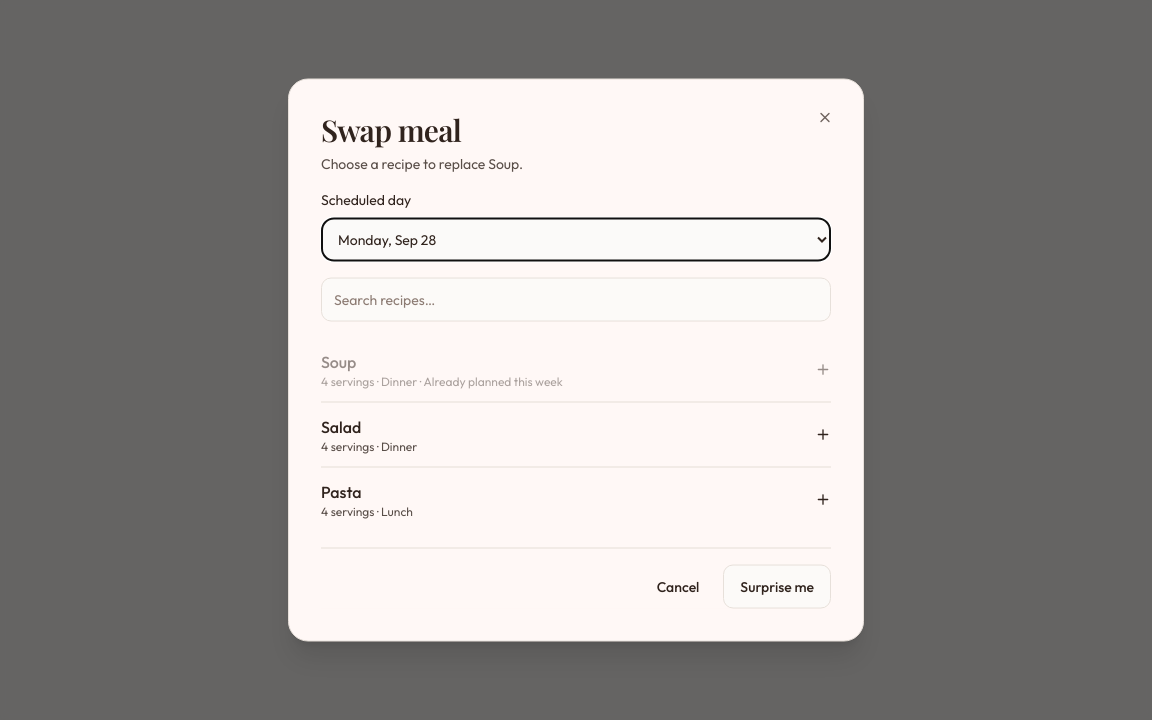
Scenario: Swap meal dialog › keeps the selection open and shows a failed save inline
What coordinates should you click on to do the following:
click the button with aria-label "Swap with Salad"
I would click on:
 (341, 426)
Its box is [321,402,831,466].
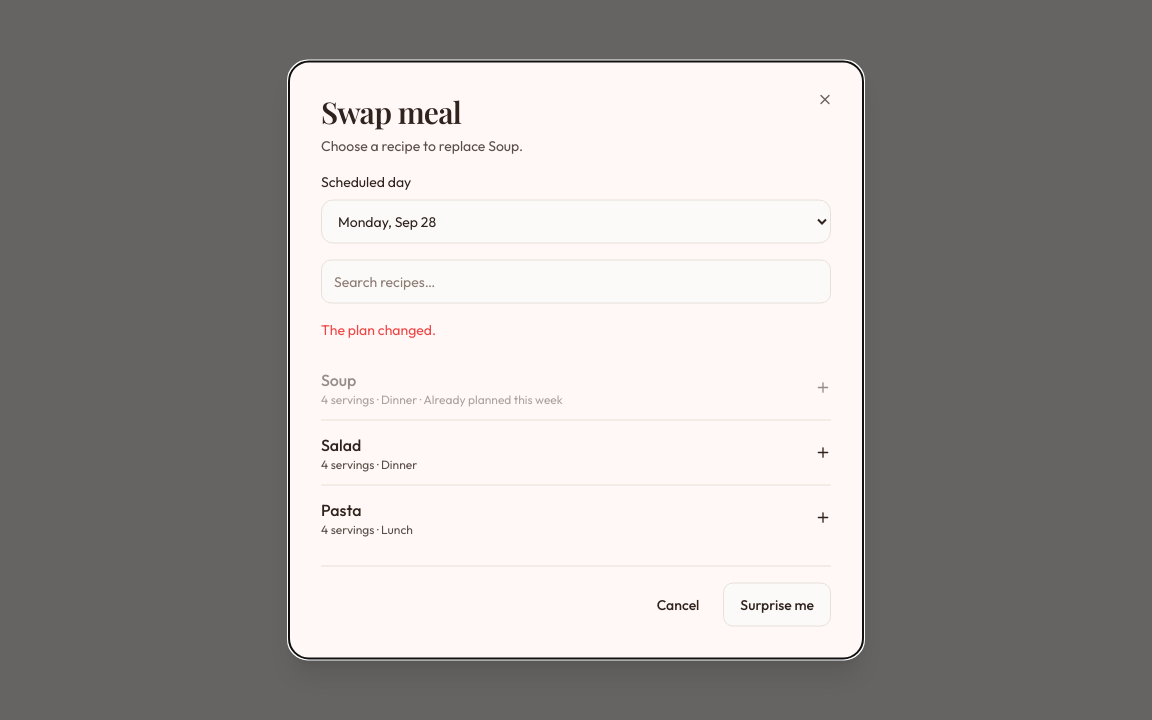
Expected: the message reads "The plan changed.", [321,320,436,338]
